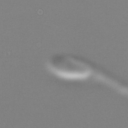normal: (89, 67, 128, 102)
